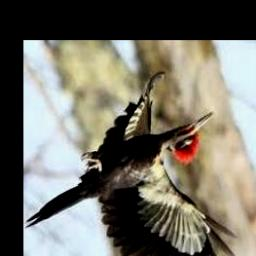Woodpecker: (25, 73, 239, 256)
